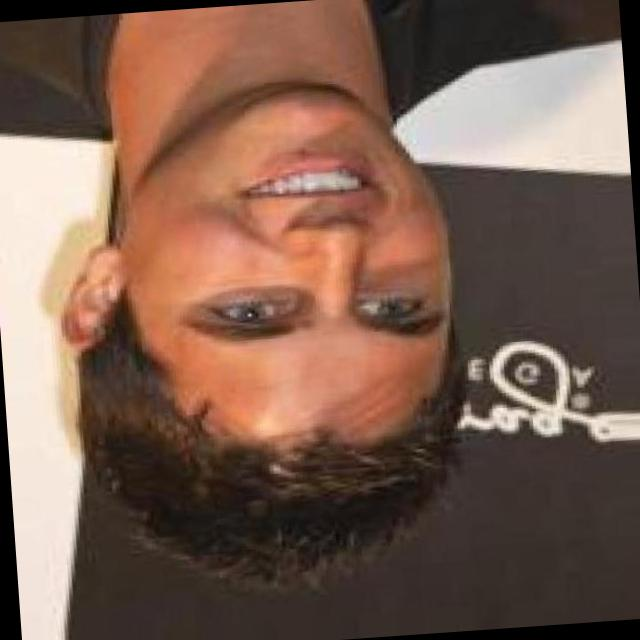bareface: (64, 114, 456, 563)
